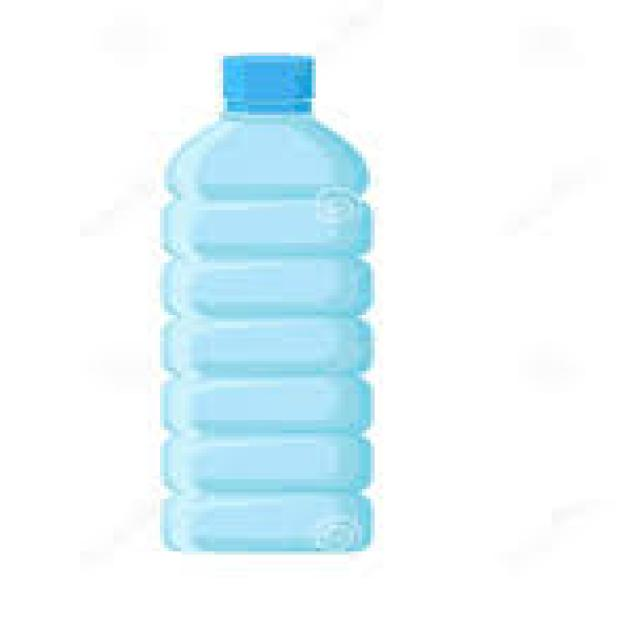organic: (144, 53, 403, 552)
